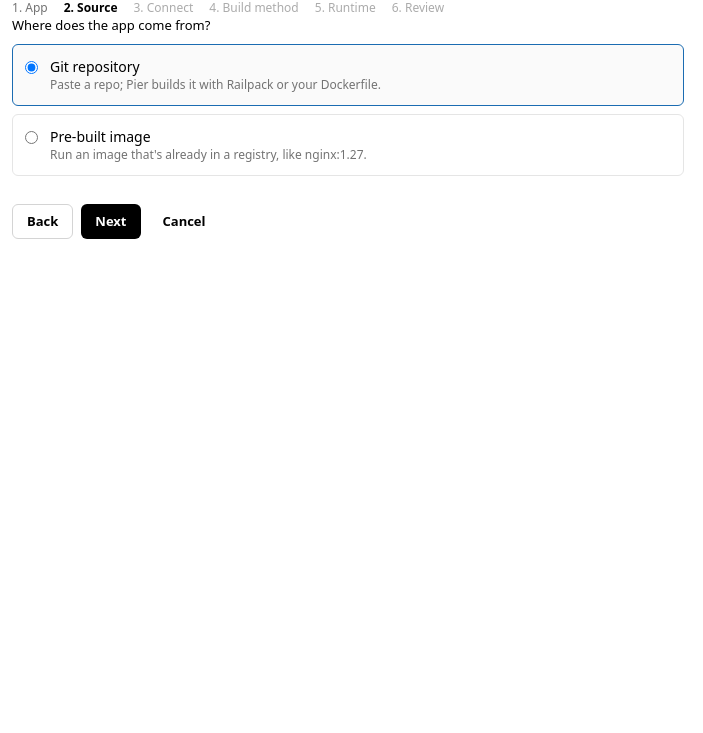
Test: DeployWizard (#83) › builds from a repo with Railpack by default, and Add volume only pre-fills the row
Earlier steps of the test are not shown.
Later steps or results of the test are not shown.
Click the button "Next": (111, 221) [81, 204, 140, 239]
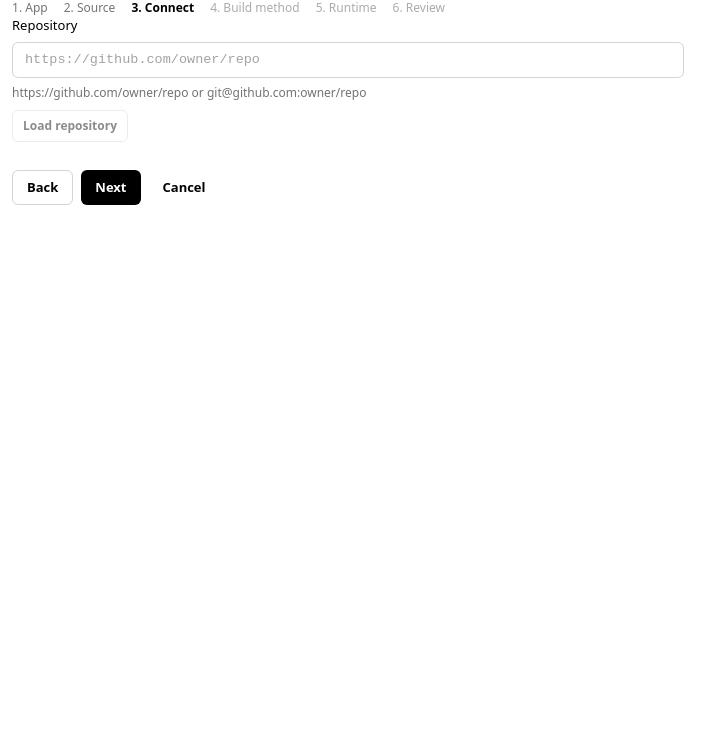
In the field labelled "Repository": (348, 60) [12, 42, 684, 78], type "https://github.com/example/app"
Click the button "Next": (111, 187) [81, 170, 140, 205]
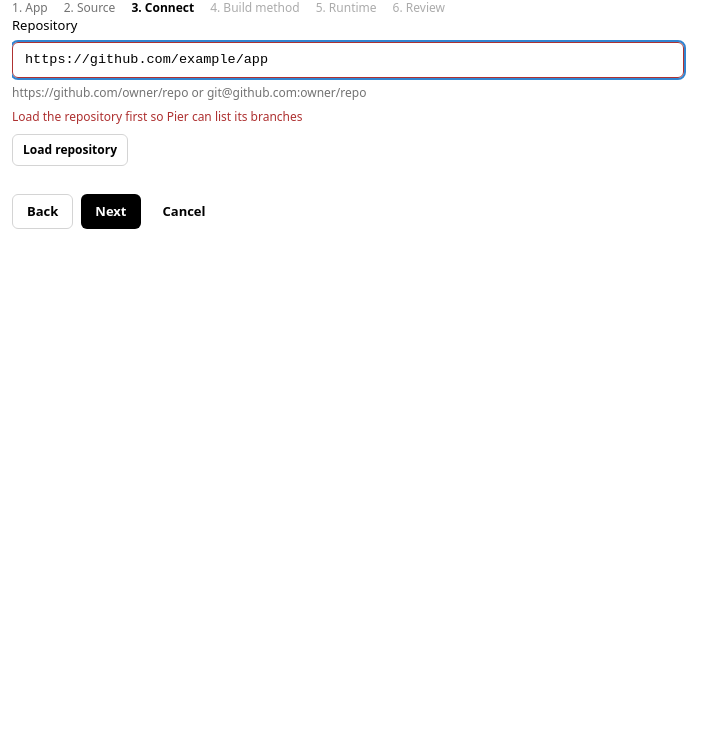
Now the text "Load the repository first so Pier can list its branches" is shown, box [12, 108, 302, 124]
Click the button "Load repository": (70, 150) [12, 134, 128, 166]
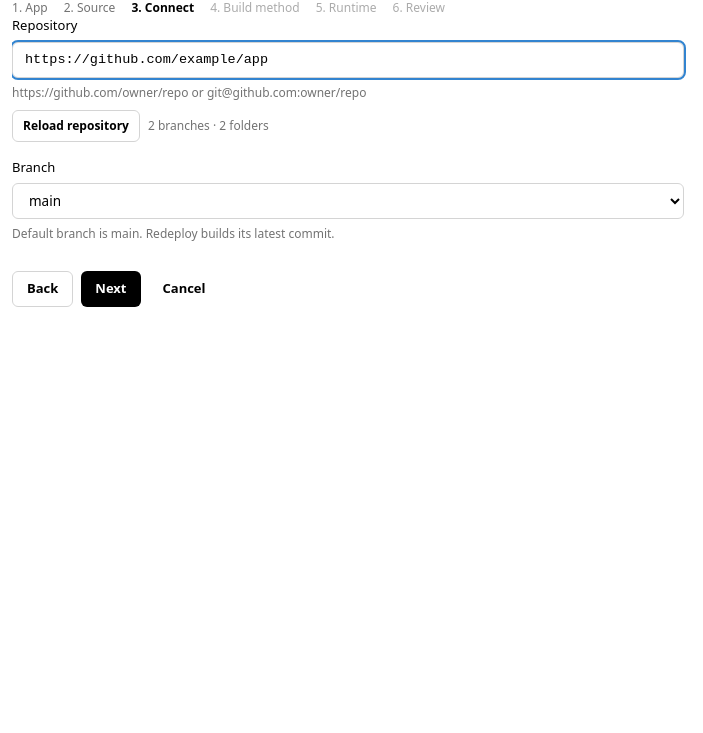
Now the dropdown labelled "Branch" is shown, box [12, 183, 684, 219]
Click the button "Next": (111, 289) [81, 271, 140, 306]
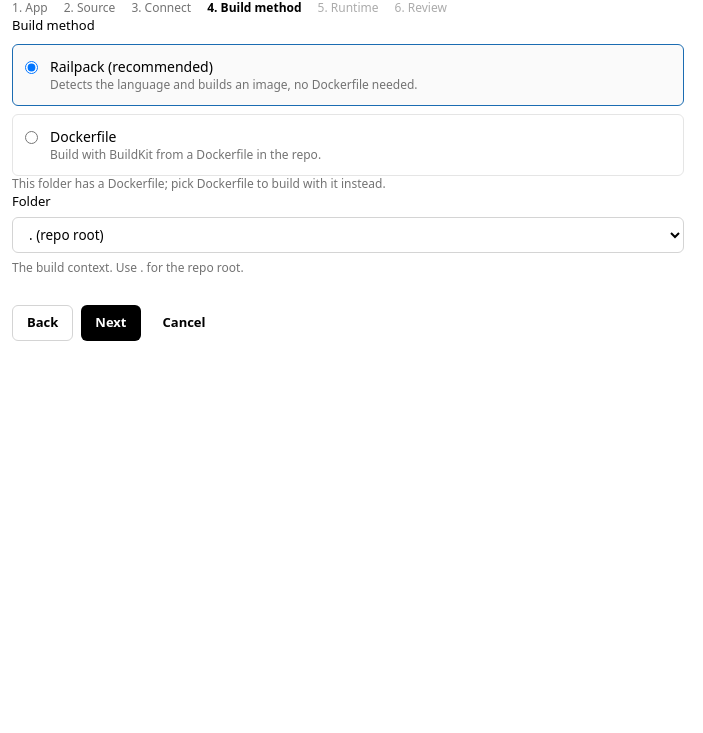
Now the radio button labelled "Railpack" is checked, box [25, 60, 38, 74]
Click the button "Next": (111, 323) [81, 305, 140, 340]
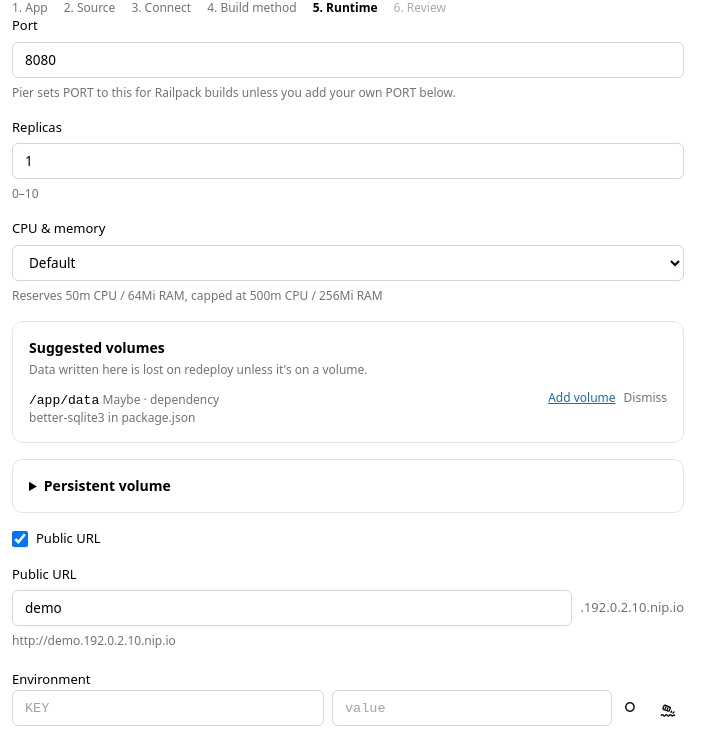
Now the heading "Suggested volumes" is shown, box [29, 338, 165, 356]
Now the text "better-sqlite3 in package.json" is shown, box [29, 410, 219, 426]
Click the button "Add volume": (582, 398) [548, 390, 616, 406]
(page scrolled)
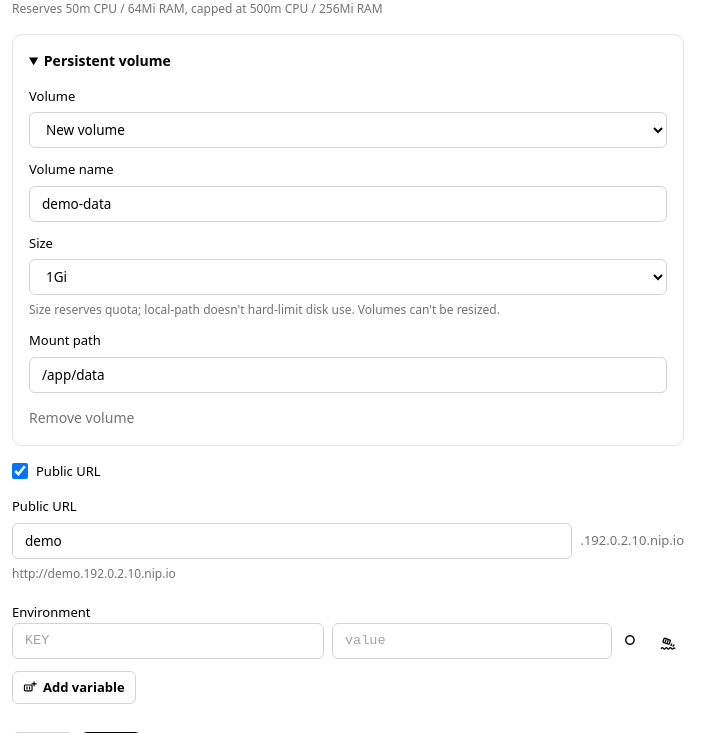
Now the field labelled "Mount path" holds "/app/data", box [29, 356, 667, 392]
Now the heading "Suggested volumes" is gone
